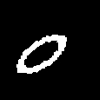chain: (17, 35, 66, 73)
